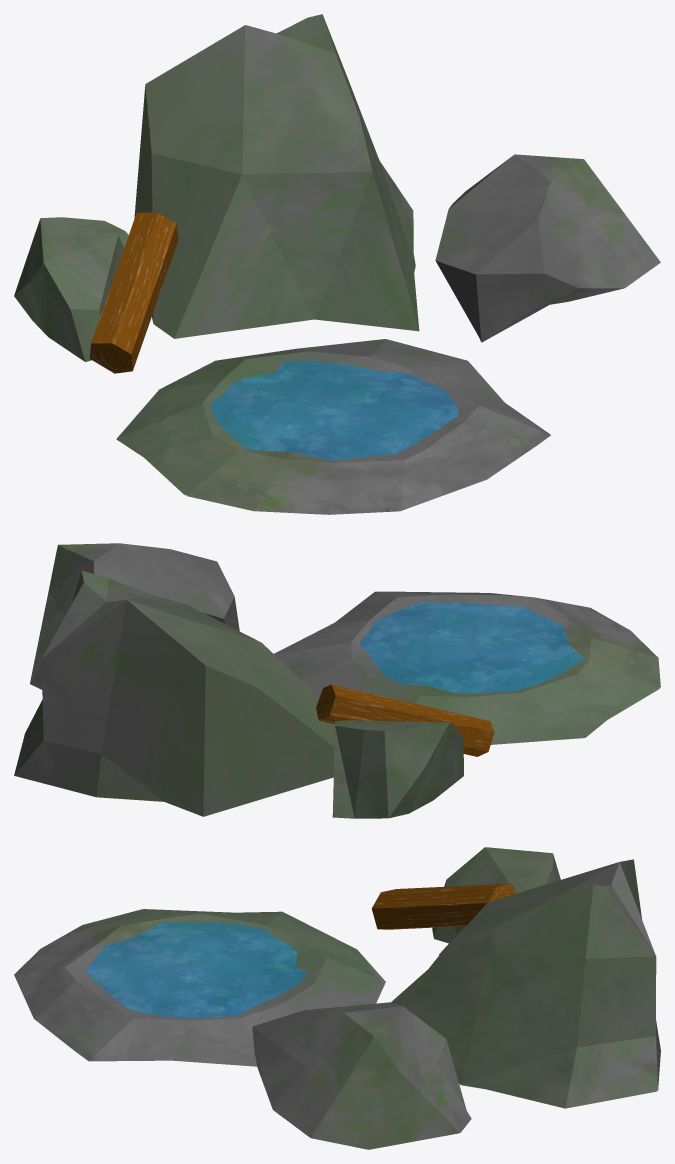
The model's file is Campamento_1.obj.
3 renders of one model, top to bottom at view 1: azimuth 30°, elevation 25°; view 2: azimuth 150°, elevation 25°; view 3: azimuth 270°, elevation 25°, orthographic. The views are drawn at different scales.
Parts seen in each view (by area): view 1: Campamento; view 2: Campamento; view 3: Campamento.
Part boxes in pixels (x1,y1,x2,y2): Campamento: (14,14,660,514); Campamento: (14,543,660,818); Campamento: (14,847,660,1149).
Size of the model in its own units: 17.55 by 6.26 by 18.74.
Materials: 2 (2 with a texture image).
